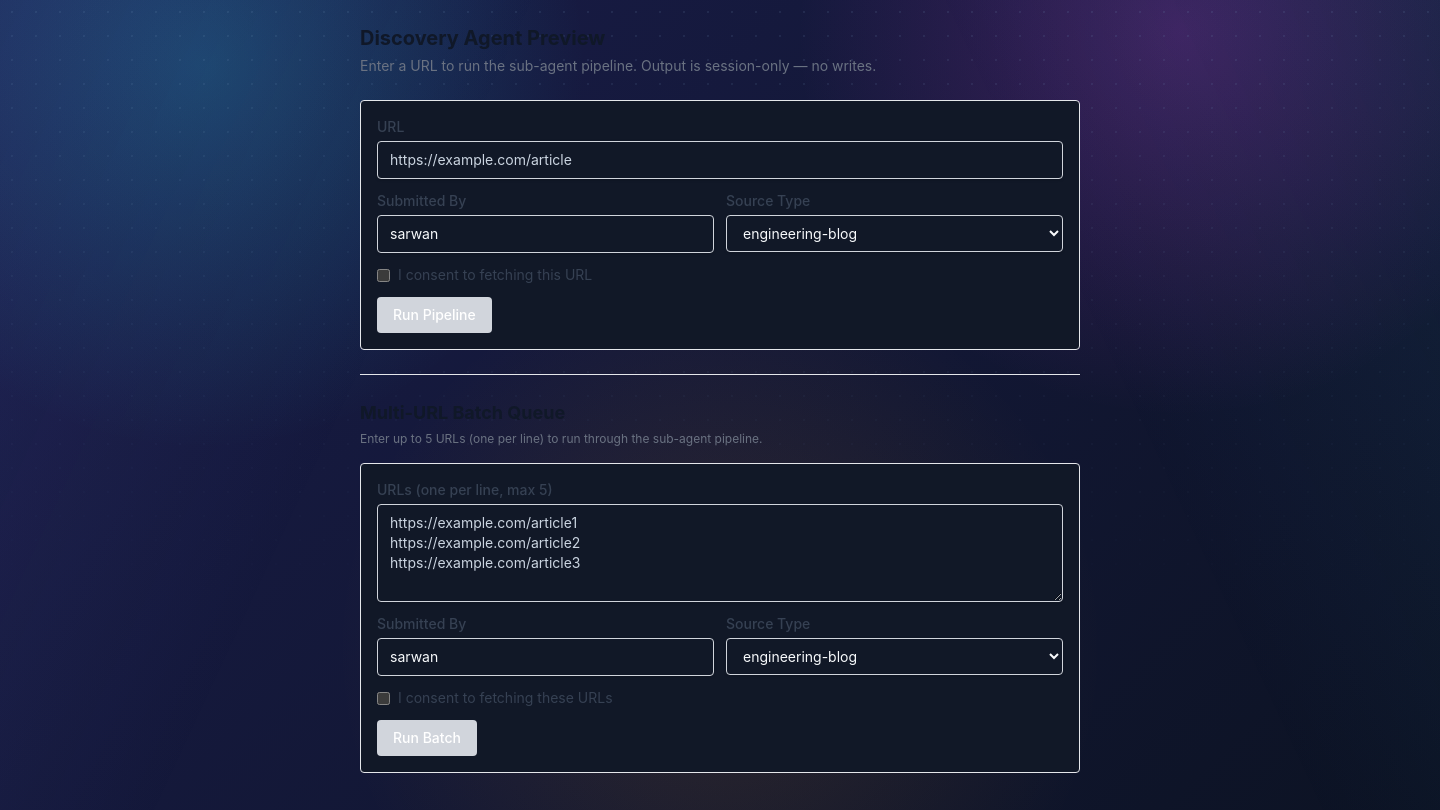
DiscoveryAgentPreview › submit button is enabled when URL is filled and consent is checked
This screenshot has width=1440, height=810.
Type "https://example.com/test" into the field with placeholder "https://example.com/article". click: (720, 160)
box: [377, 141, 1063, 179]
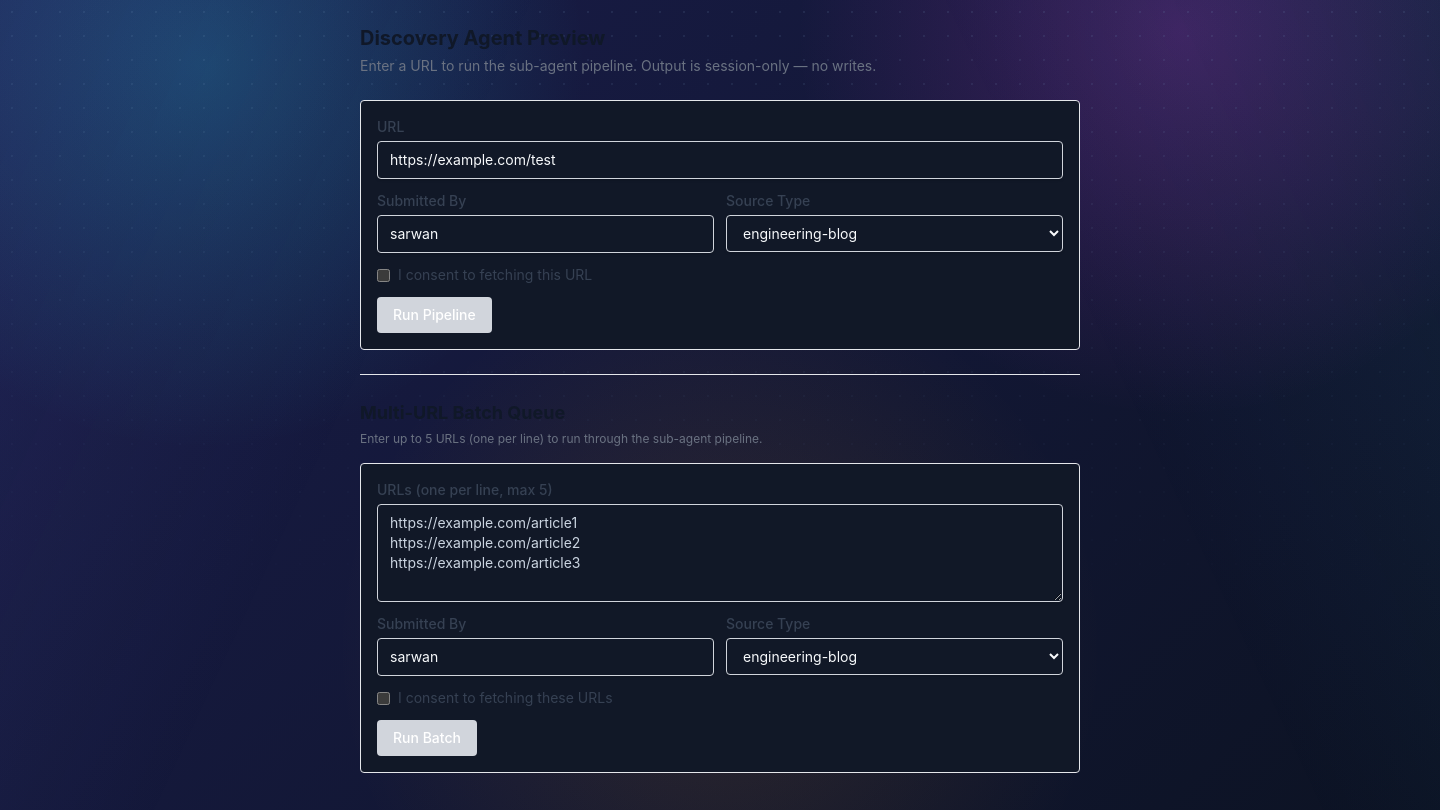
Click the text "I consent to fetching this URL". click: (495, 275)
box: [398, 265, 592, 285]
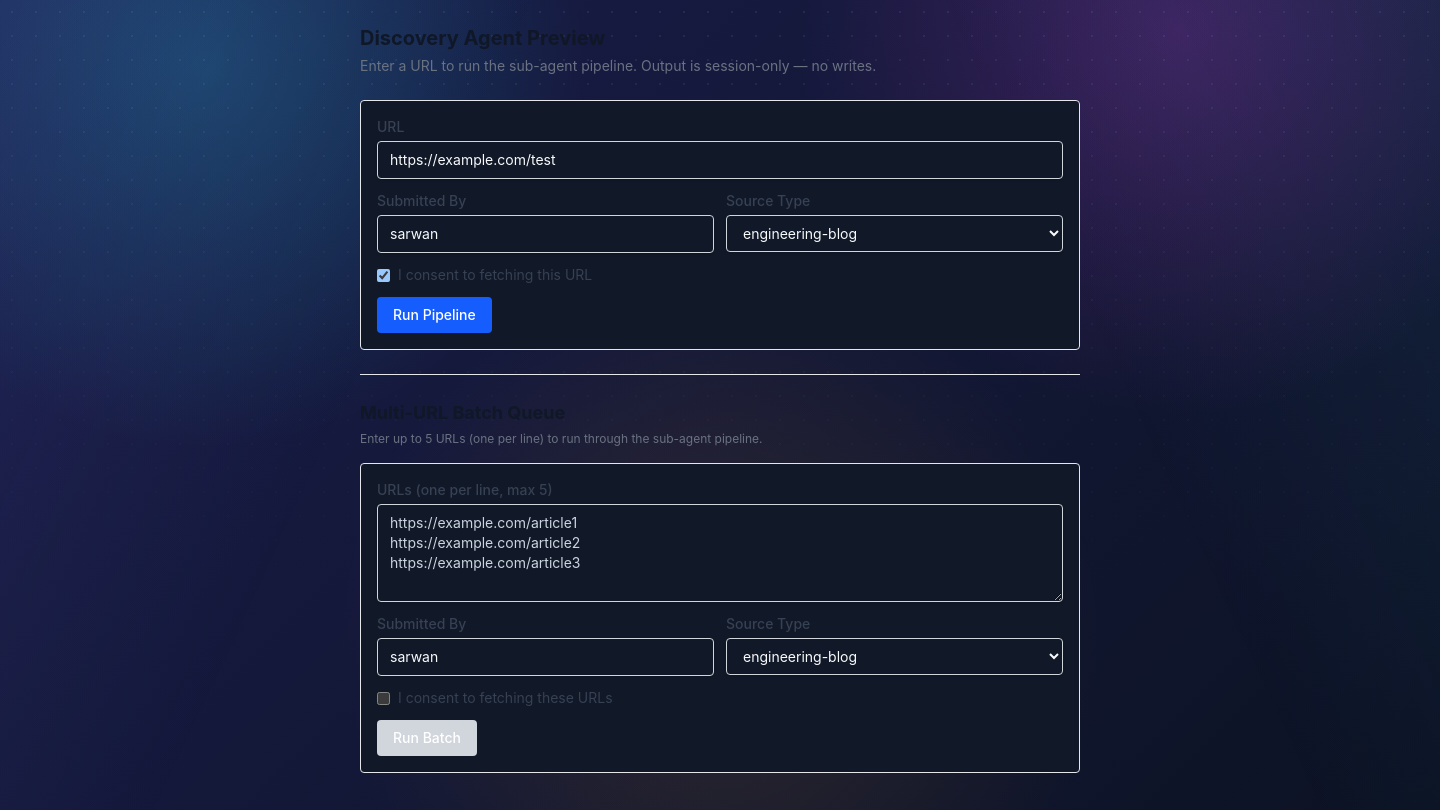
Now the button "Run Pipeline" is enabled, box [377, 297, 492, 333]
